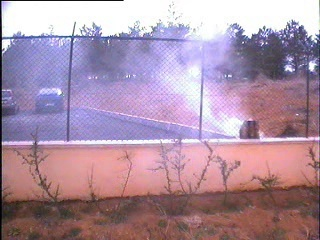smoke: (132, 28, 263, 136)
